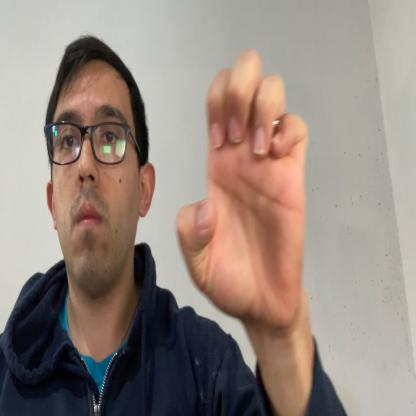E: (175, 43, 308, 339)
